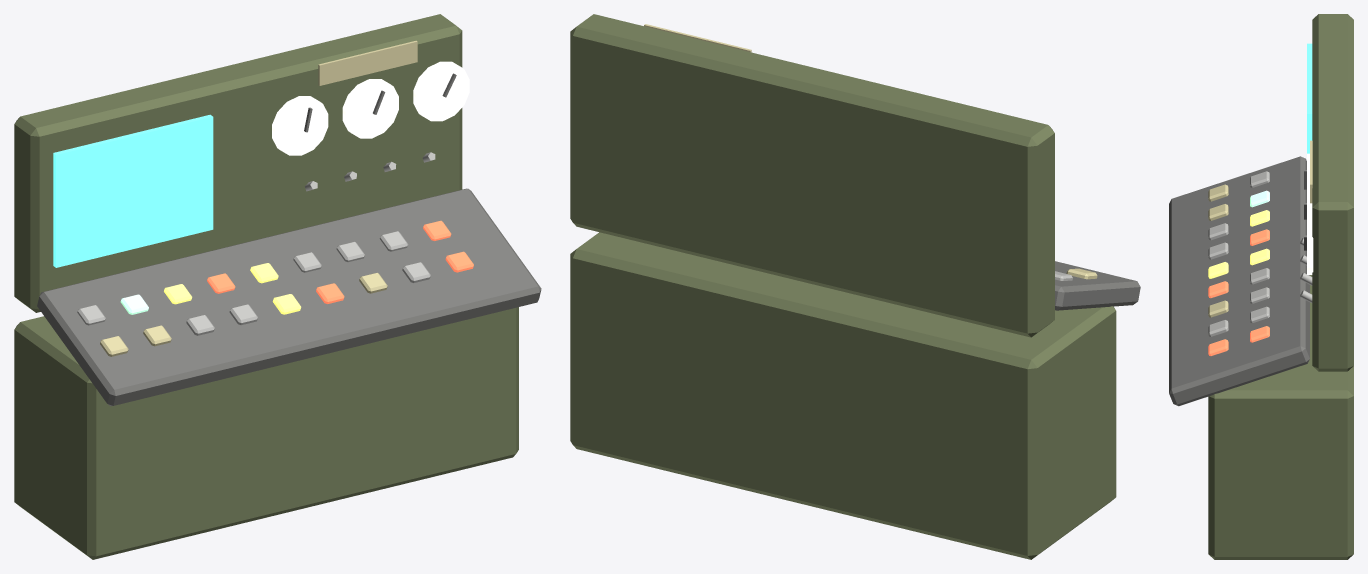
File: bk_console.glb
3 renders of one model, left to right at view 1: azimuth 30°, elevation 25°; view 2: azimuth 150°, elevation 25°; view 3: azimuth 270°, elevation 25°, orthographic. The views are drawn at different scales.
Parts seen in each view (by area): view 1: bk_console; view 2: bk_console; view 3: bk_console.
Boxes of the visible parts, x1,y1,x2,y2 form: bk_console: (14, 14, 541, 559); bk_console: (570, 14, 1140, 559); bk_console: (1169, 14, 1353, 559).
Bounding box in the file's own units: 2.21 × 1.9 × 0.8892.
